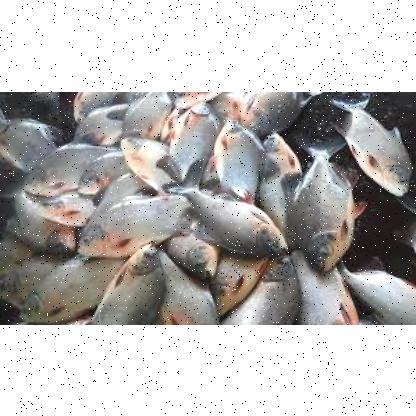ikan-pacu: (78, 186, 188, 256), (180, 185, 286, 257), (290, 143, 352, 265), (21, 254, 127, 322), (342, 100, 412, 192), (92, 246, 164, 324), (21, 140, 117, 194), (224, 258, 296, 324), (6, 186, 74, 250), (209, 114, 262, 194), (168, 98, 216, 180), (78, 149, 124, 193)
